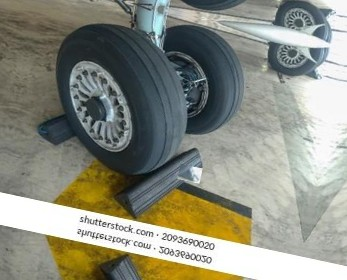chock: (110, 132, 208, 231), (34, 102, 100, 153), (85, 249, 183, 280), (177, 164, 203, 184), (318, 5, 338, 21), (305, 66, 325, 82)
wheel: (35, 16, 197, 181), (141, 19, 254, 144), (264, 36, 328, 82), (273, 0, 336, 42)
